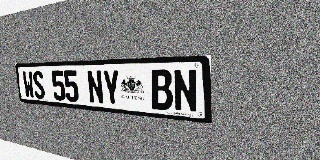5: (63, 70, 79, 102), (51, 71, 66, 101)
B: (150, 69, 173, 111)
N: (173, 69, 198, 113), (86, 70, 104, 105)
S: (32, 71, 46, 99)
W: (22, 71, 35, 98)
Y: (102, 70, 121, 106)
